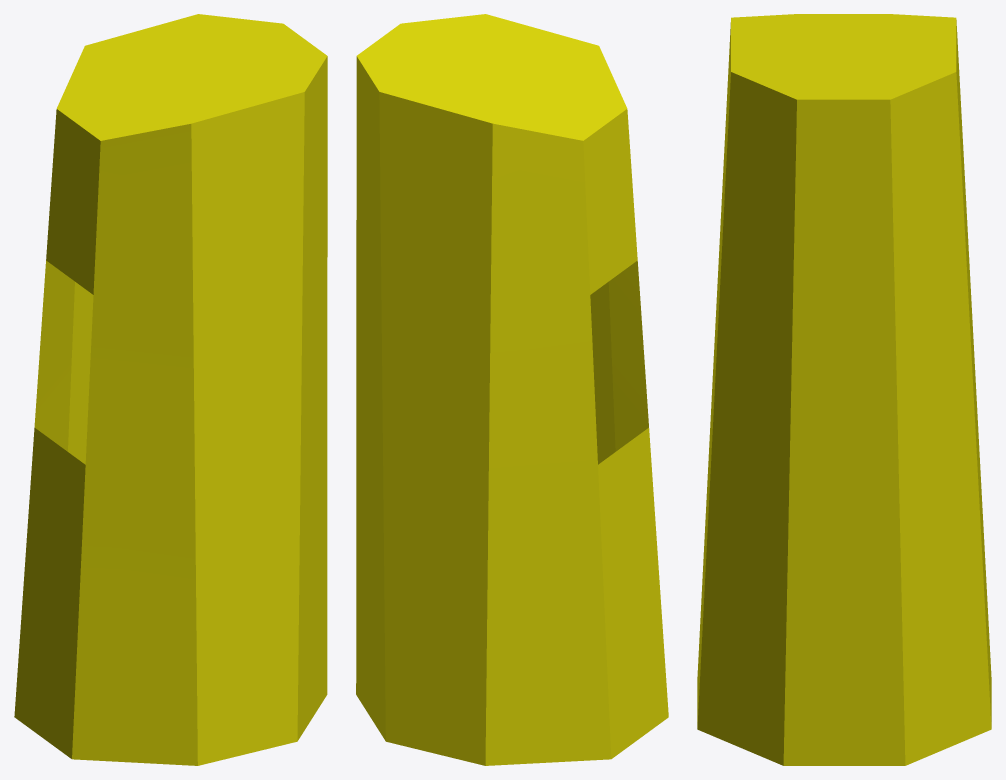
File: CraneHouse.glb
3 views of the same model, side by side, from view 1: azimuth 30°, elevation 25°; view 2: azimuth 150°, elevation 25°; view 3: azimuth 270°, elevation 25° (orthographic). The views are drawn at different scales.
Visible parts, largest first — view 1: CraneHouse; view 2: CraneHouse; view 3: CraneHouse.
Part boxes in pixels (bbox=[...]): CraneHouse: bbox=[14, 14, 327, 765]; CraneHouse: bbox=[356, 14, 668, 765]; CraneHouse: bbox=[697, 14, 991, 765].
Size of the model in its own units: 2.62 by 6.06 by 2.4.
